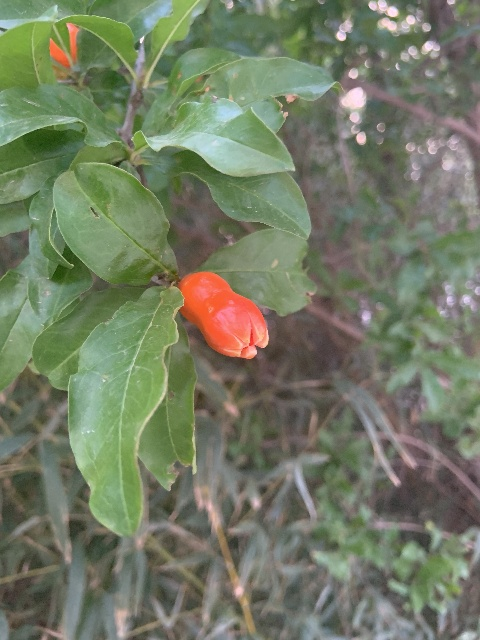bud: (176, 270, 268, 360)
